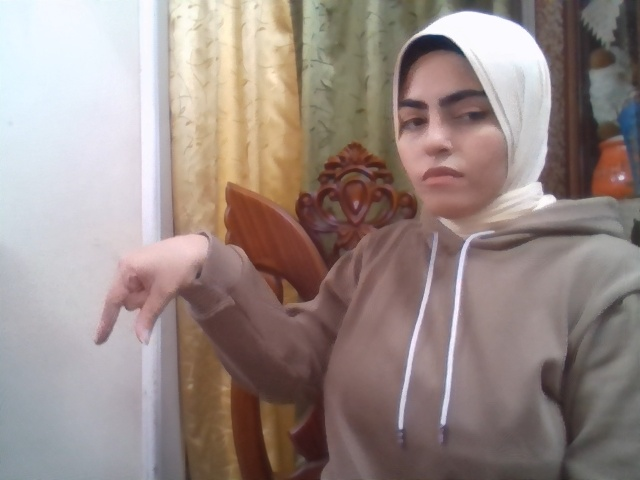Q: (92, 233, 198, 346)
